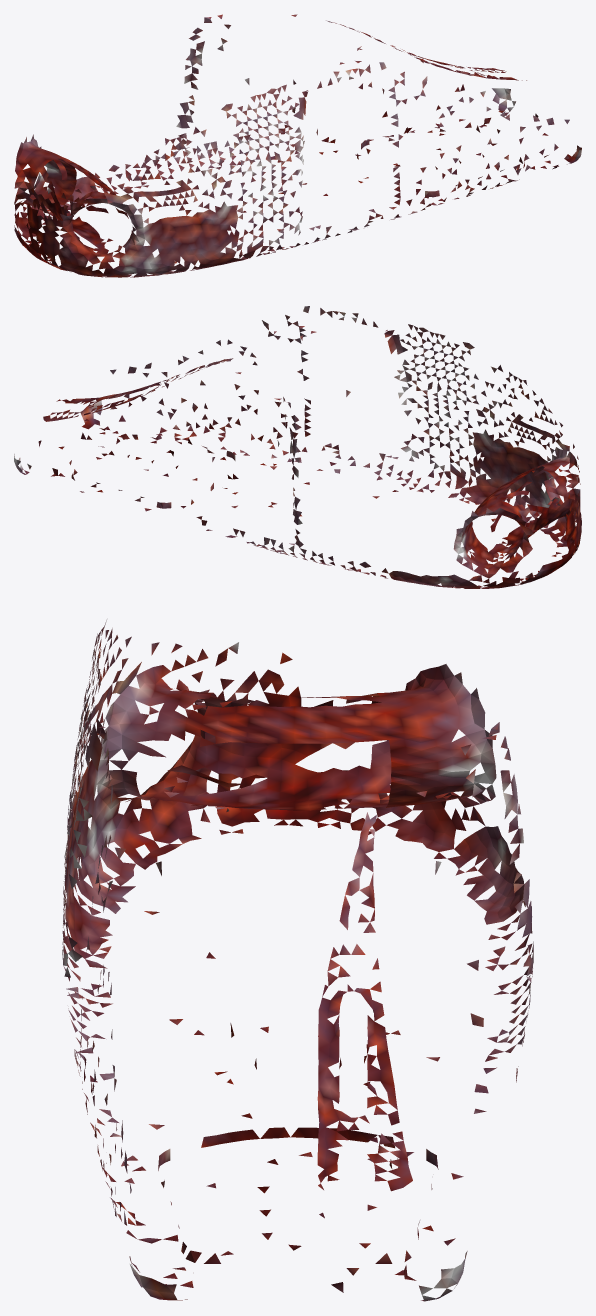
File: whistle_final200.obj
3 renders of one model, top to bottom at view 1: azimuth 30°, elevation 25°; view 2: azimuth 150°, elevation 25°; view 3: azimuth 270°, elevation 25°, orthographic. The views are drawn at different scales.
Bounding box in the file's own units: 1.93 × 0.5822 × 0.7621.
